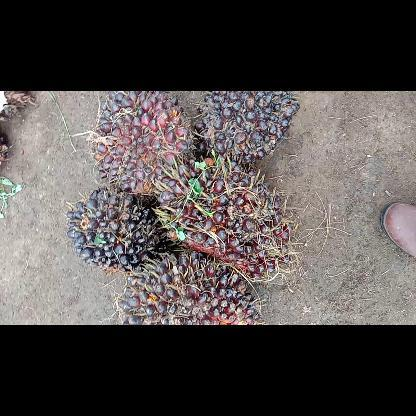TBS mentah: (153, 157, 291, 282), (88, 91, 196, 201), (116, 250, 268, 324), (62, 184, 171, 272), (191, 90, 301, 170)
